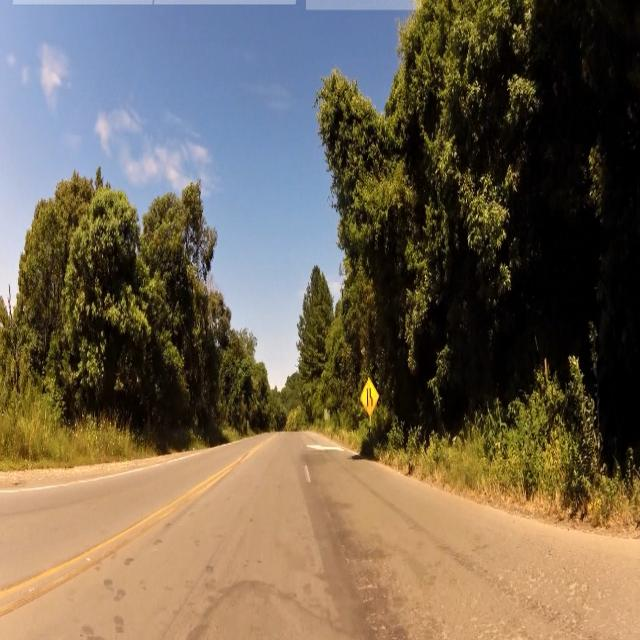A-21c: (360, 378, 379, 418)
